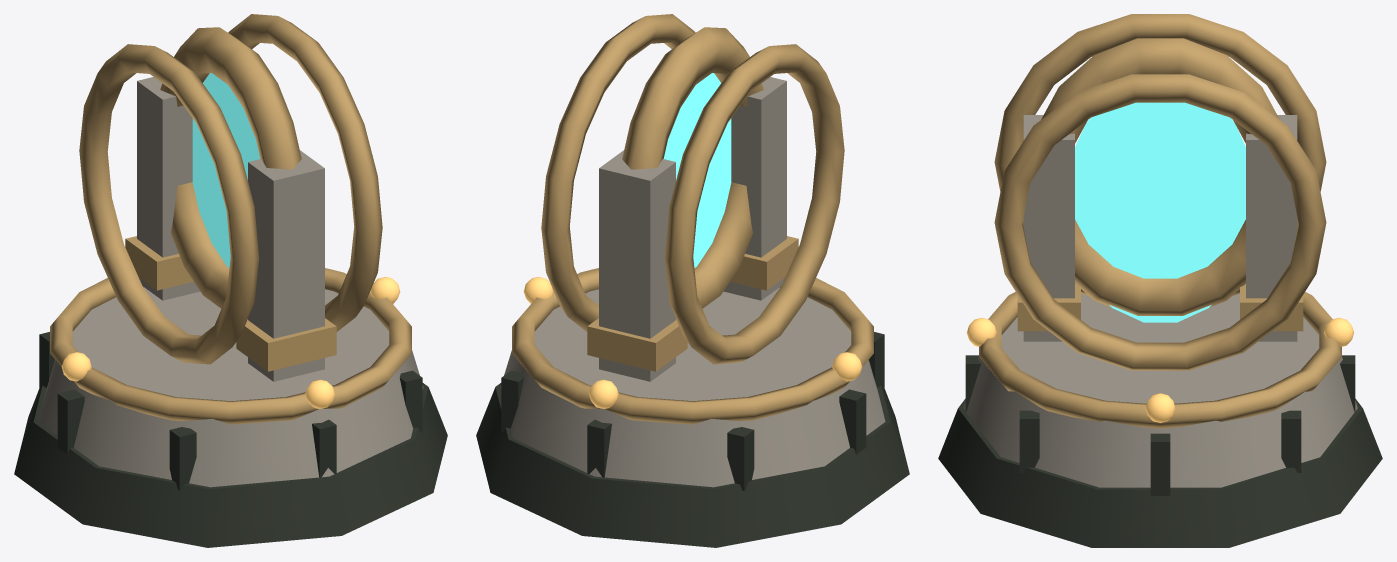
File: tower_portal_portalArch.glb
3 views of the same model, side by side, from view 1: azimuth 30°, elevation 25°; view 2: azimuth 150°, elevation 25°; view 3: azimuth 270°, elevation 25° (orthographic).
Visible parts, largest first — view 1: stone_1, foot_0, return_arch_21, arch_pillar_15, rim_2, arch_19, return_arch_22, arch_pillar_17, portal_surface_20, band_16, band_18, mortar_6 (+7 smaller); view 2: stone_1, foot_0, return_arch_21, arch_pillar_17, rim_2, arch_19, return_arch_22, arch_pillar_15, portal_surface_20, band_18, band_16, mortar_8 (+7 smaller); view 3: stone_1, foot_0, portal_surface_20, return_arch_22, arch_19, return_arch_21, rim_2, arch_pillar_15, arch_pillar_17, mortar_3, mortar_4, mortar_10 (+7 smaller).
Part boxes in pixels (x1,y1,x2,y2): stone_1: (38, 287, 423, 487); foot_0: (14, 383, 447, 547); return_arch_21: (79, 44, 259, 364); arch_pillar_15: (248, 150, 324, 381); rim_2: (50, 268, 411, 424); arch_19: (160, 27, 301, 308); return_arch_22: (228, 14, 382, 331); arch_pillar_17: (137, 77, 200, 300); portal_surface_20: (192, 73, 260, 267); band_16: (236, 318, 336, 371); band_18: (125, 236, 193, 290); mortar_6: (169, 427, 196, 490); stone_1: (500, 287, 885, 487); foot_0: (476, 383, 909, 547); return_arch_21: (664, 44, 844, 364); arch_pillar_17: (599, 150, 675, 381); rim_2: (512, 268, 873, 424); arch_19: (622, 27, 763, 308); return_arch_22: (541, 14, 695, 331); arch_pillar_15: (723, 77, 786, 300); portal_surface_20: (663, 73, 731, 267); band_18: (587, 318, 687, 371); band_16: (730, 236, 798, 290); mortar_8: (727, 427, 754, 490); stone_1: (963, 293, 1357, 487); foot_0: (938, 398, 1382, 547); portal_surface_20: (1075, 102, 1245, 322); return_arch_22: (994, 74, 1326, 370); arch_19: (1041, 38, 1279, 315); return_arch_21: (994, 14, 1326, 295); rim_2: (979, 292, 1341, 428); arch_pillar_15: (1023, 115, 1074, 341); arch_pillar_17: (1246, 115, 1297, 341); mortar_3: (1150, 433, 1170, 495); mortar_4: (1019, 410, 1039, 472); mortar_10: (1281, 410, 1301, 472).
Size of the model in its own units: 0.5326 by 0.5841 by 0.56.
